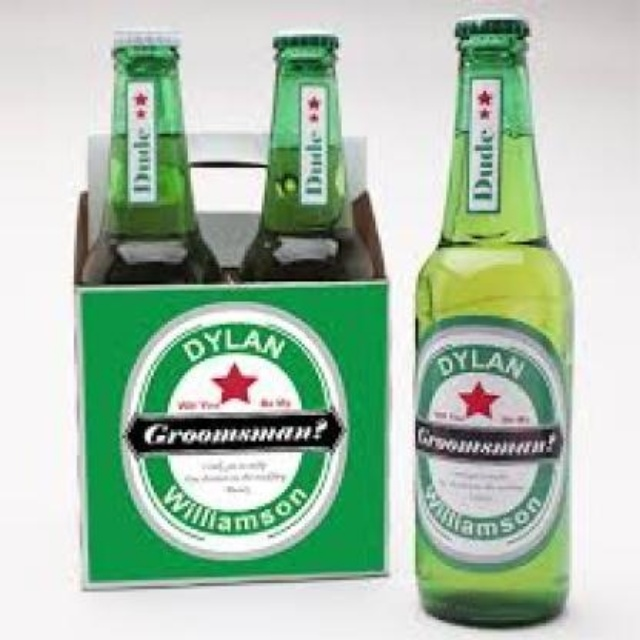trash: (77, 32, 386, 585), (415, 17, 571, 623)
